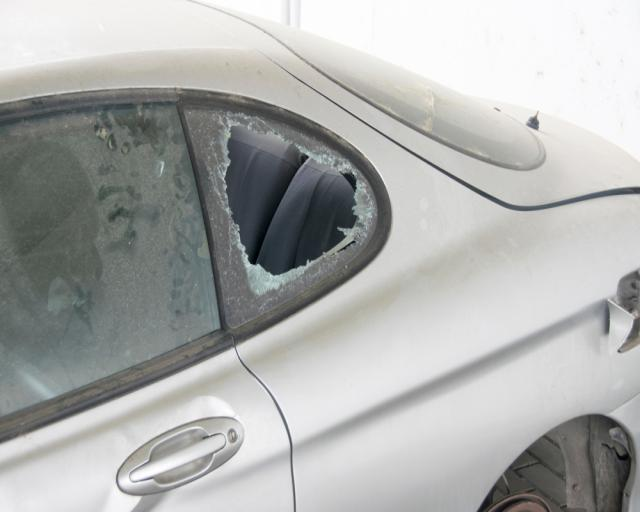glass shatter: (182, 108, 378, 328)
